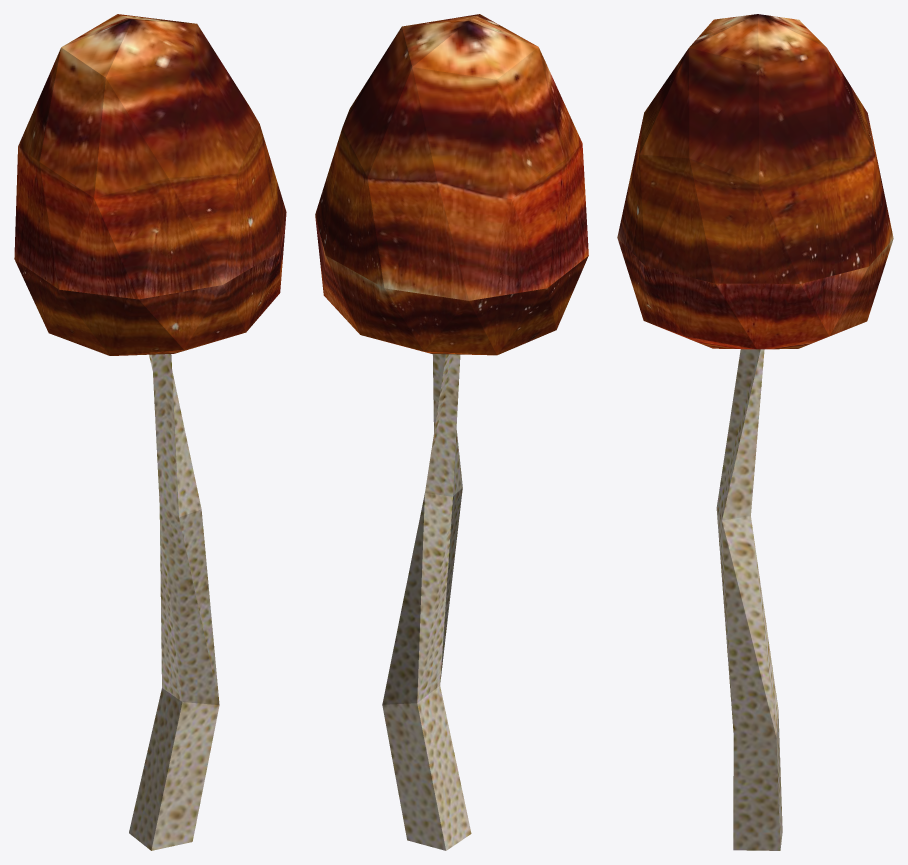
Rendered from fungo_7.fbx.
3 views of the same model, side by side, from view 1: azimuth 30°, elevation 25°; view 2: azimuth 150°, elevation 25°; view 3: azimuth 270°, elevation 25° (orthographic).
Visible parts, largest first — view 1: fungo_7; view 2: fungo_7; view 3: fungo_7.
Part boxes in pixels (<box>): fungo_7: <box>14,14,286,850</box>; fungo_7: <box>315,14,588,850</box>; fungo_7: <box>617,14,893,850</box>.
Bounding box in the file's own units: 8.36 × 28.44 × 8.76.
